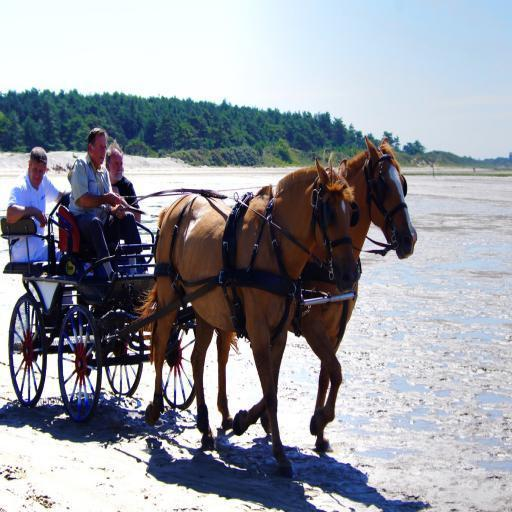horse: (130, 145, 357, 477), (214, 132, 417, 448)
